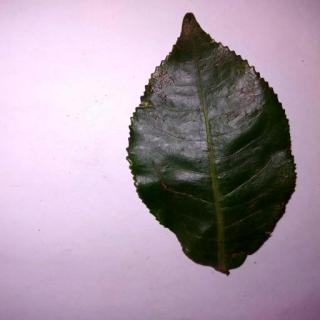Bird Eye Spot: (128, 12, 298, 275)
